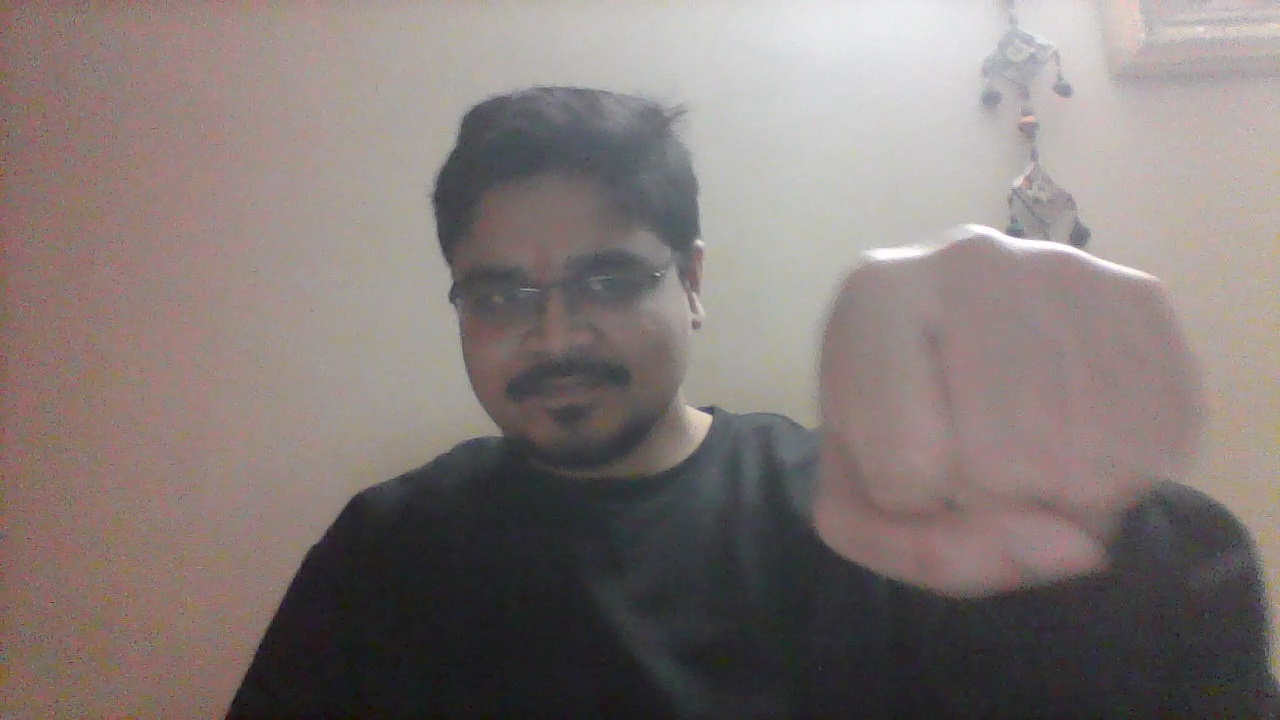Yes: (815, 222, 1234, 618)
